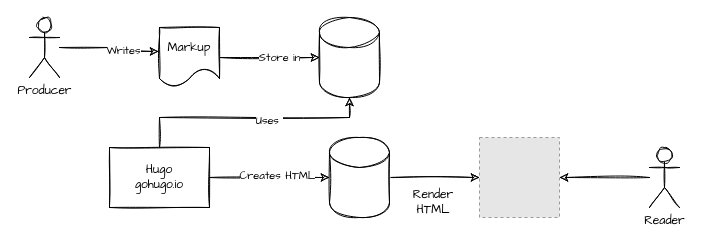
Some shapes in this 701 by 246 pixel diagram are drawn without their labels. Grey dashed boxes stand in for pictures. Each missing label, with the centre of its shape:
"Github" belongs at pixel 359 177.
"GitLab" belongs at pixel 349 57.
